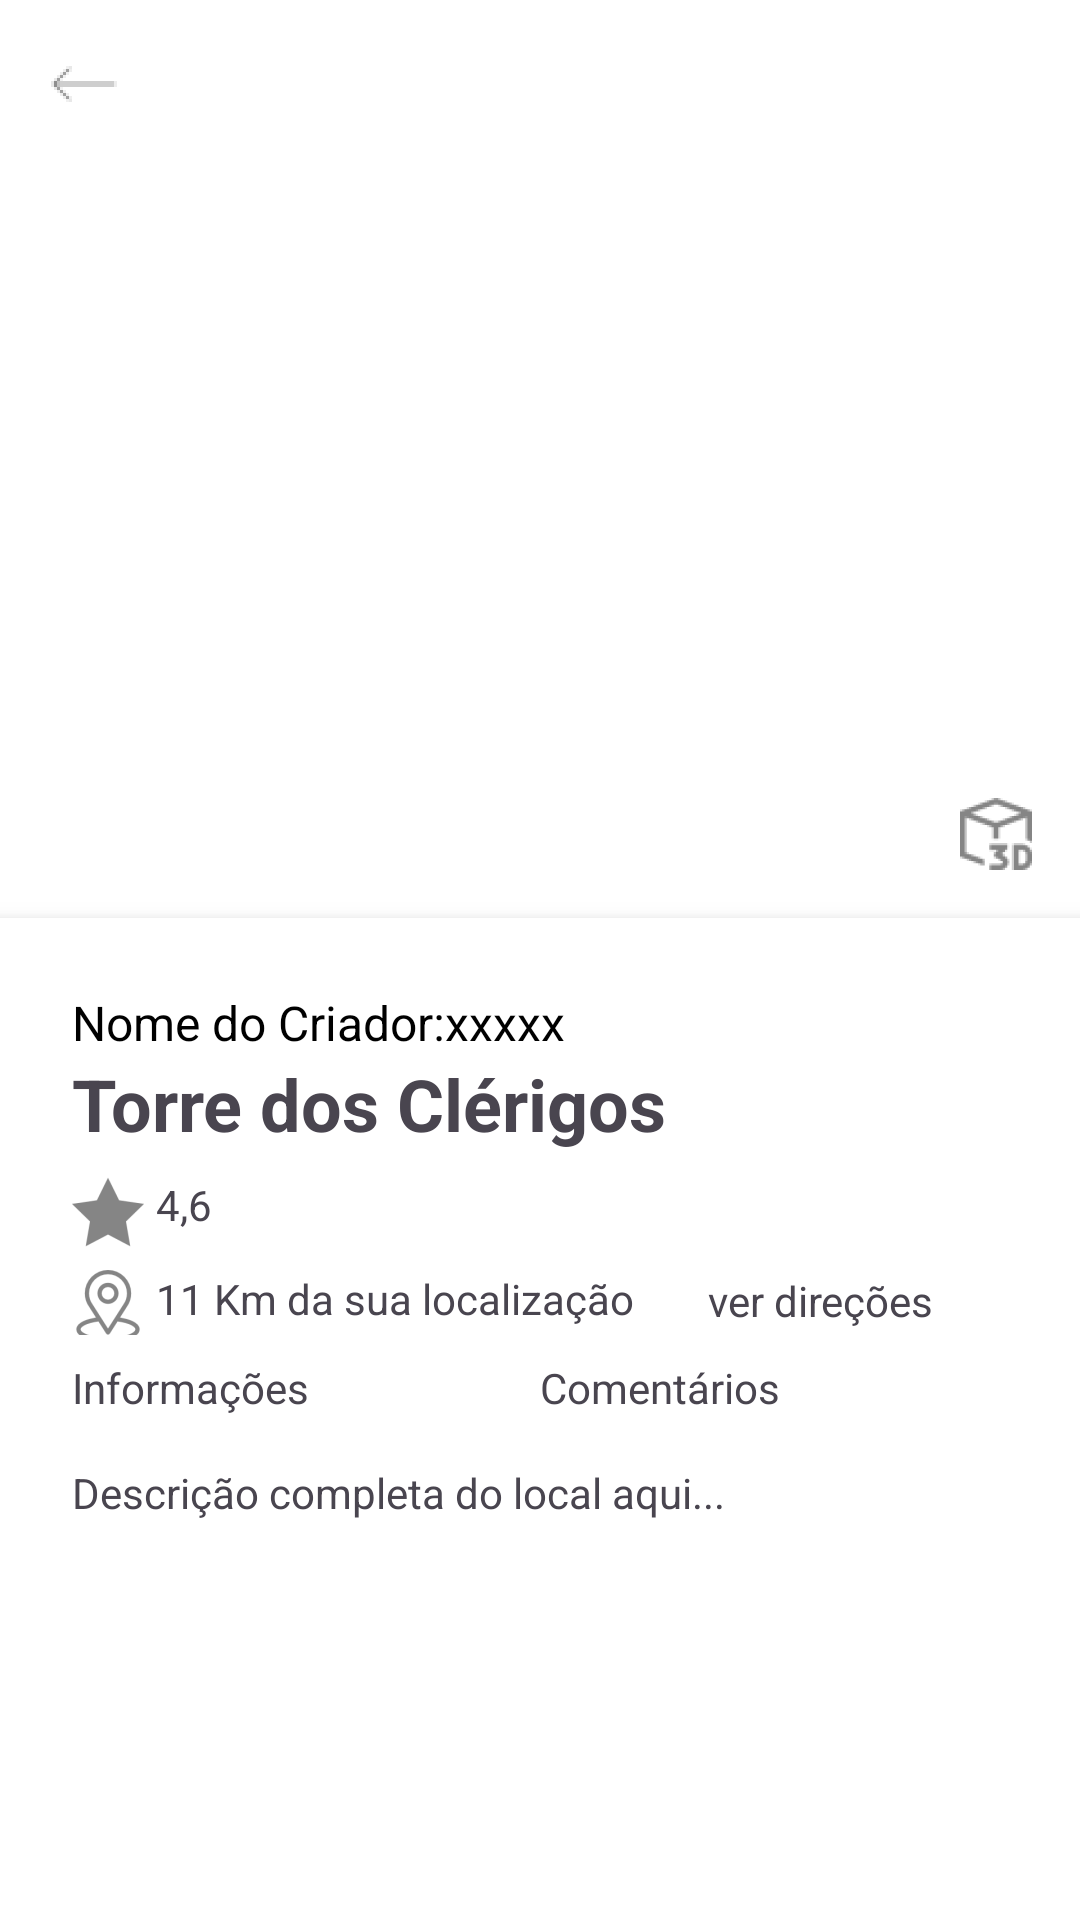

Named icons in this screenshot (1080w x 1920h) and their centers, [x,y]:
voltar: [84,84]
